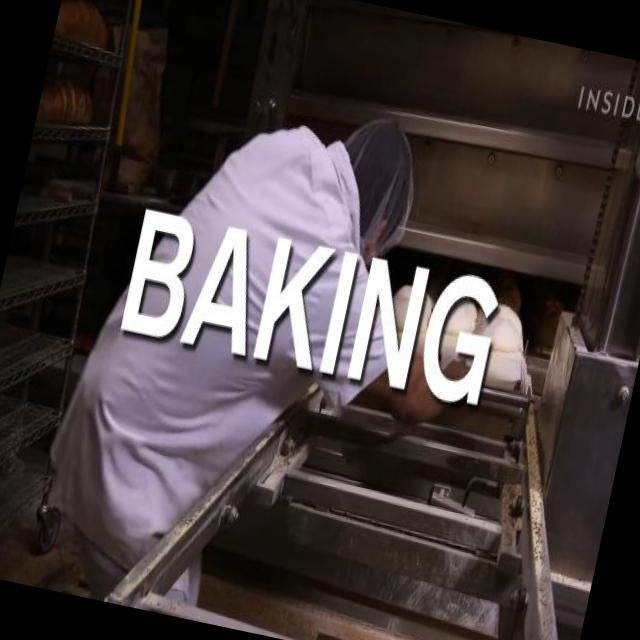hairnet: (334, 116, 425, 254)
